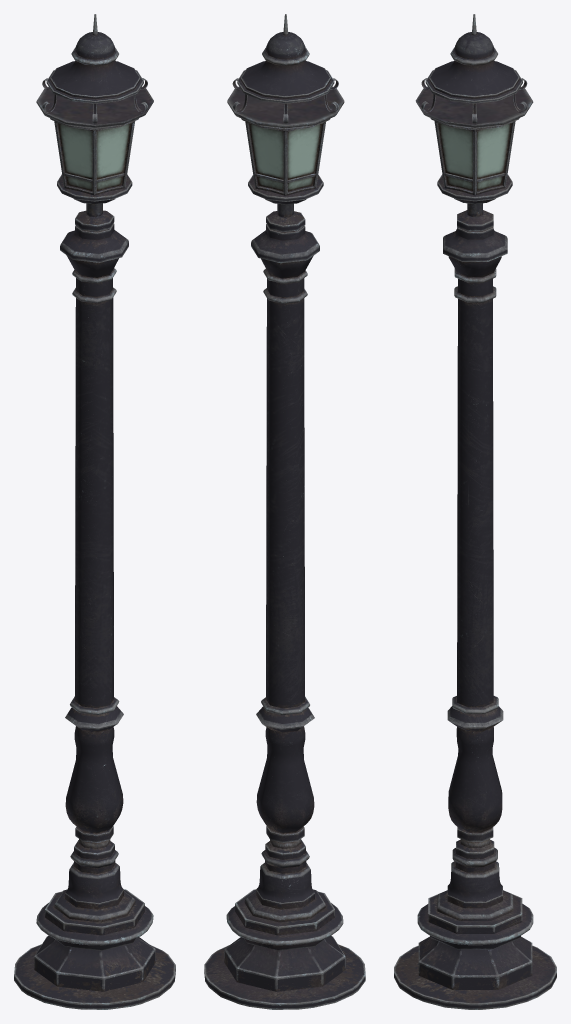
The model's file is street_lamp.glb.
3 renders of one model, left to right at view 1: azimuth 30°, elevation 25°; view 2: azimuth 150°, elevation 25°; view 3: azimuth 270°, elevation 25°, orthographic.
Visible parts, largest first — view 1: LowPoly; view 2: LowPoly; view 3: LowPoly.
Boxes of the visible parts, <box> form: LowPoly: <box>14,14,175,1009</box>; LowPoly: <box>204,14,365,1009</box>; LowPoly: <box>394,14,556,1009</box>.
Size of the model in its own units: 0.9291 by 6.05 by 0.9291.
1 material, 1 textured.
